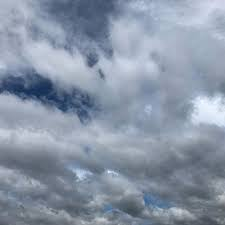sky: (1, 2, 225, 224)
